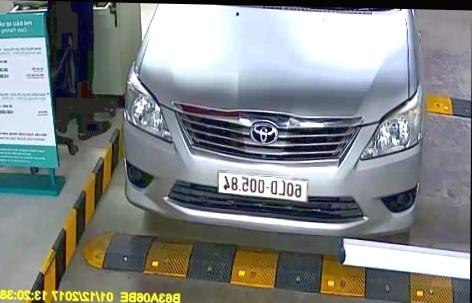License_Plate: (215, 169, 311, 201)
